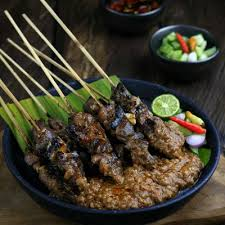sate: (16, 69, 219, 215)
